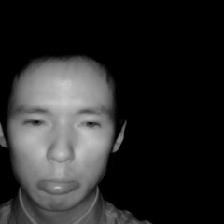sad: (5, 44, 126, 219)
